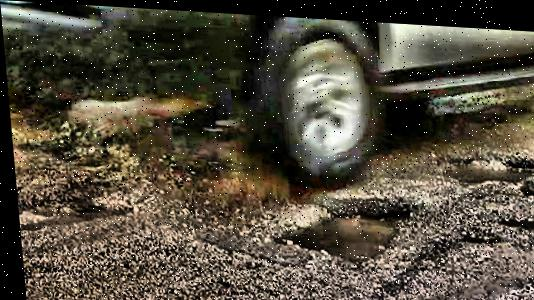pothole: (256, 187, 409, 265), (430, 143, 534, 194), (454, 217, 496, 239), (491, 209, 534, 226)
